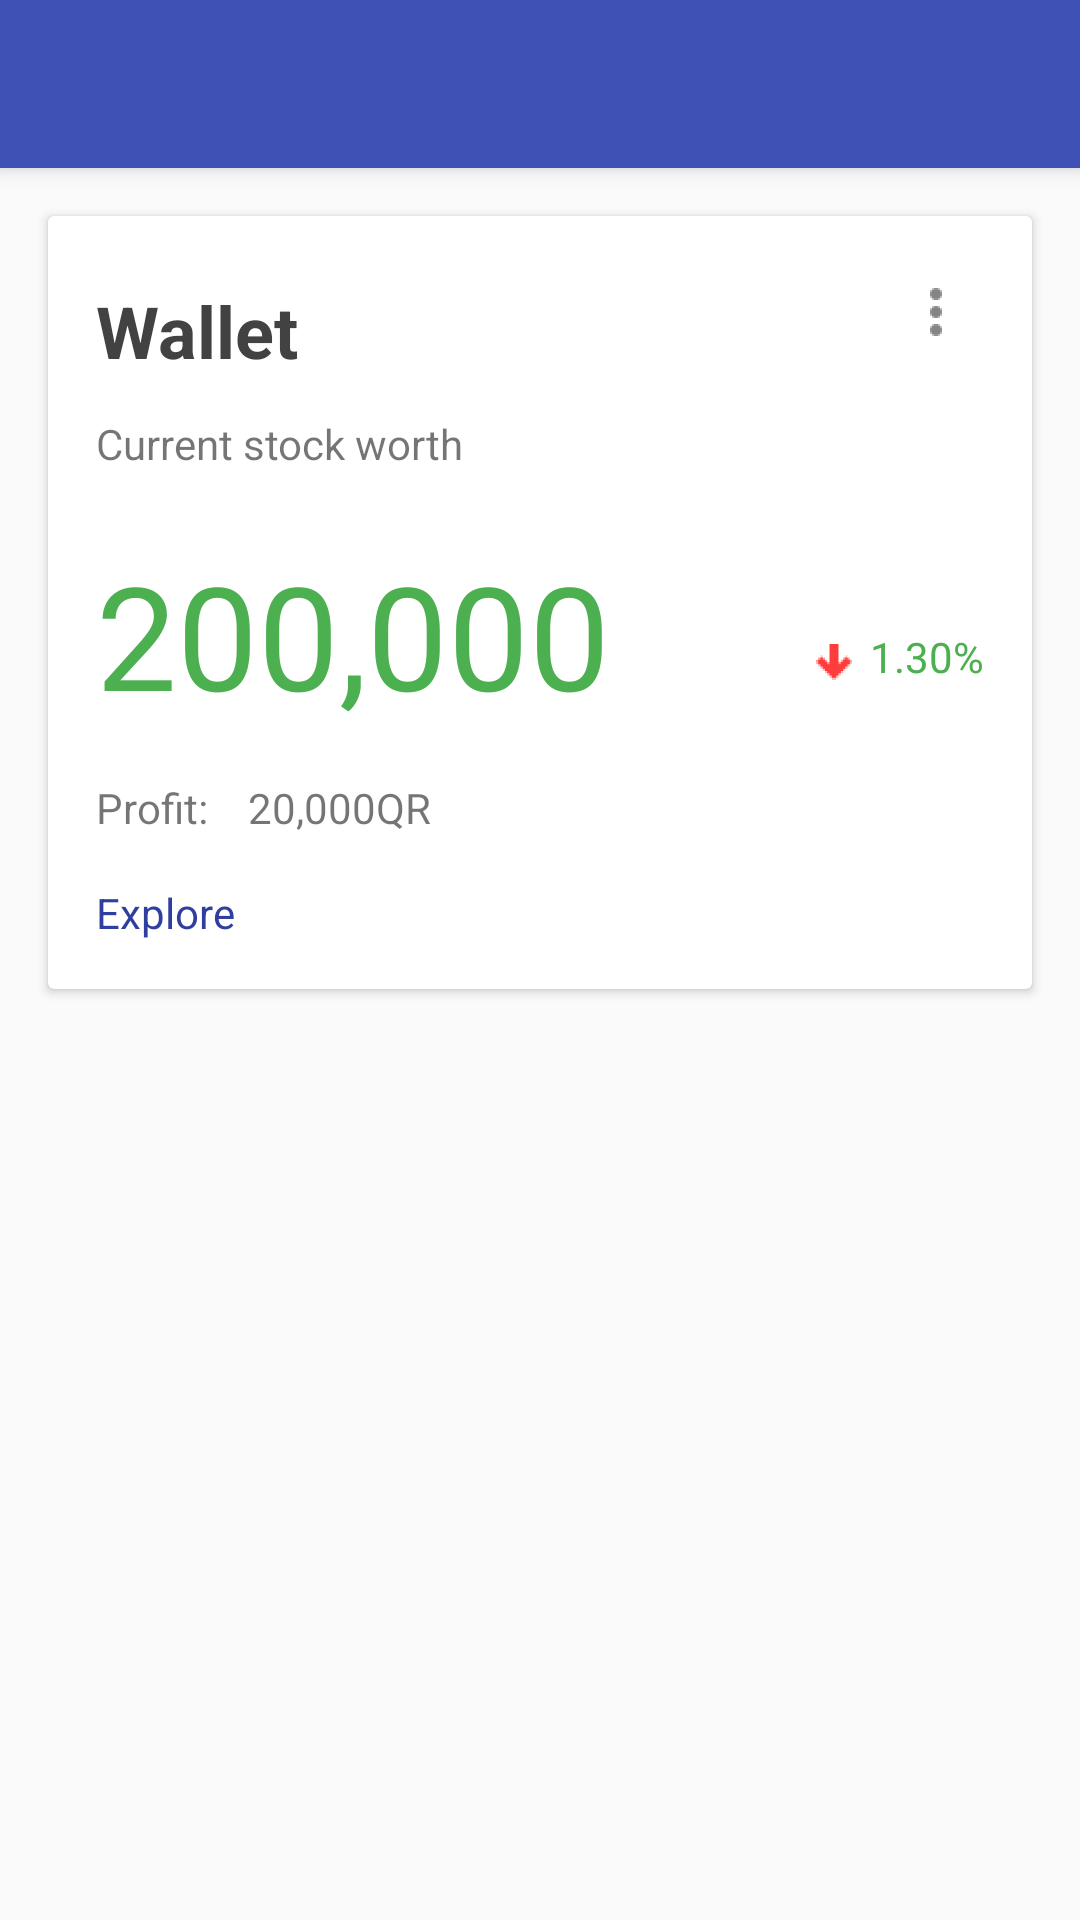

Locate icon controls on the screen. Image size 1080px x 1920px, boxes as (x1, y1, x2, y2).
arrow: (816, 644, 852, 680)
card menu: (930, 288, 942, 336)
